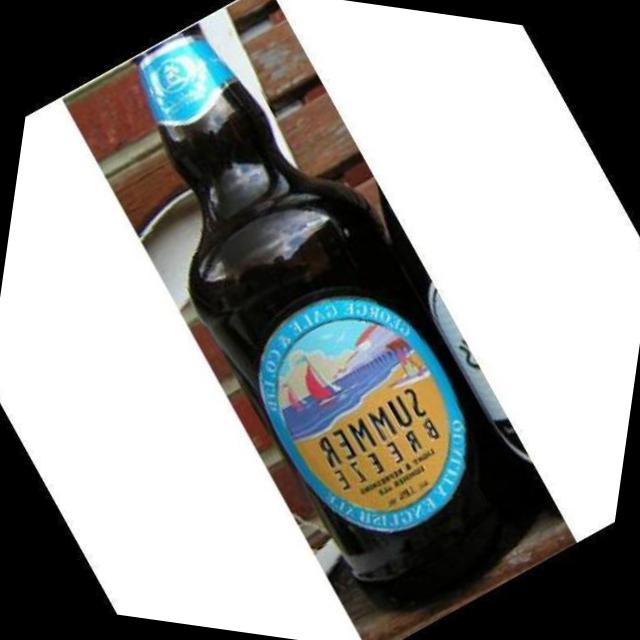BotolKaca: (65, 18, 605, 626)
